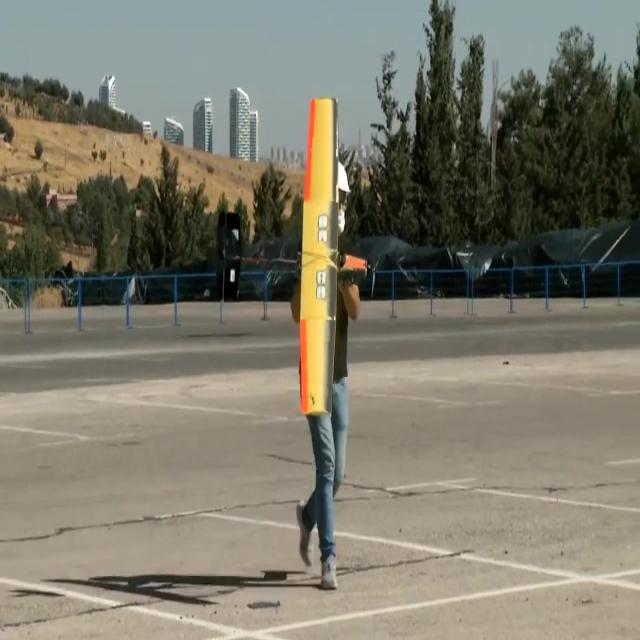iha: (213, 95, 375, 420)
